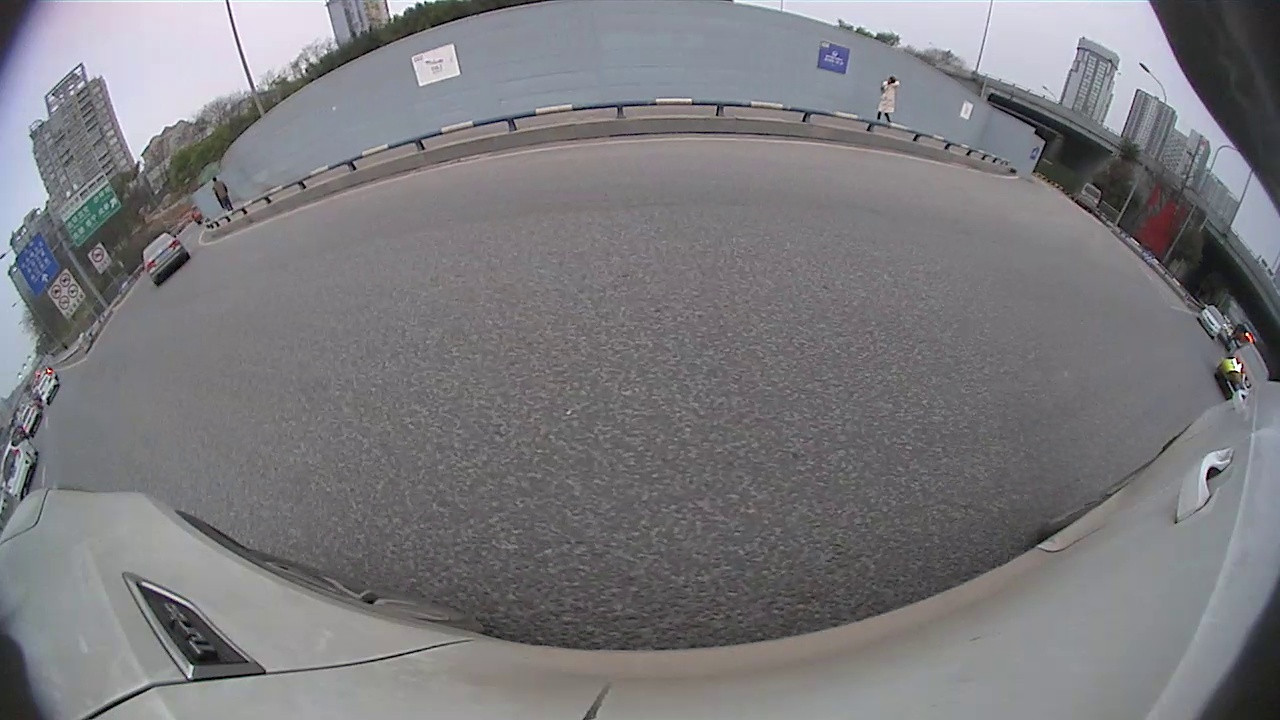car: (1214, 341, 1271, 400), (141, 230, 191, 288), (1, 437, 40, 503), (1197, 303, 1226, 340), (35, 370, 62, 406), (1075, 181, 1103, 215), (19, 402, 44, 437)
person: (881, 75, 898, 122), (211, 176, 225, 215)
